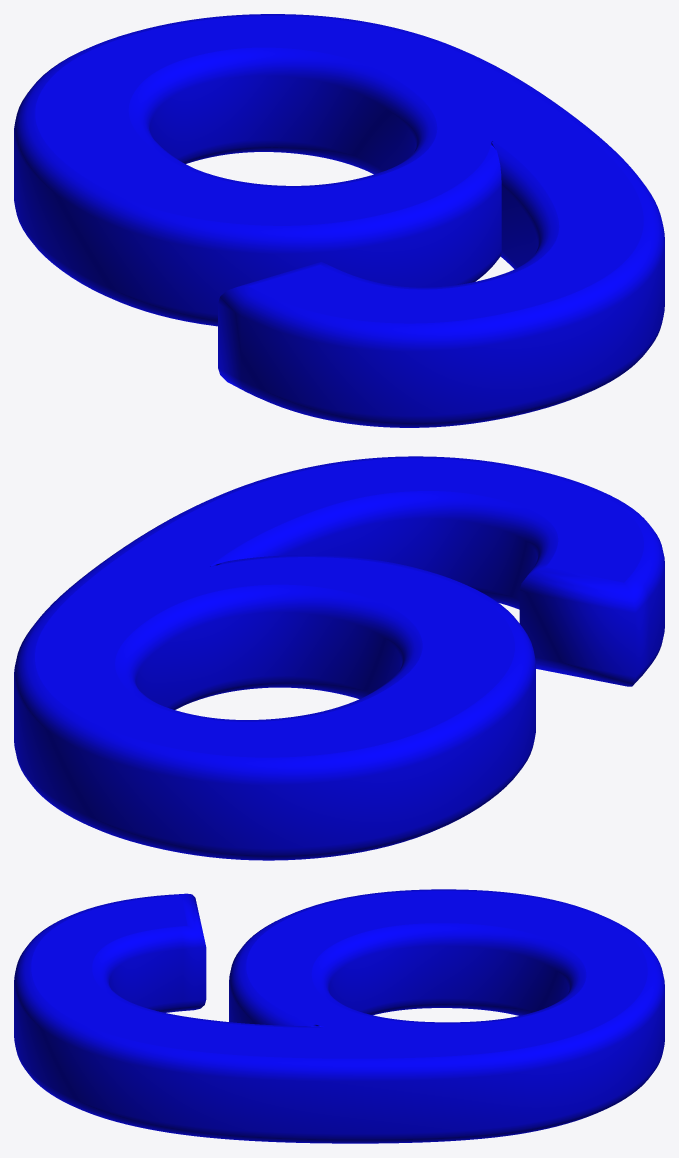
3 renders of one model, top to bottom at view 1: azimuth 30°, elevation 25°; view 2: azimuth 150°, elevation 25°; view 3: azimuth 270°, elevation 25°, orthographic. The views are drawn at different scales.
Visible parts, largest first — view 1: 57; view 2: 57; view 3: 57.
Boxes of the visible parts, box(x1,y1,x2,y2) form: 57: box(14, 14, 664, 427); 57: box(14, 456, 664, 860); 57: box(14, 889, 664, 1143).
Bounding box in the file's own units: 0.7513 × 0.16 × 1.13.
